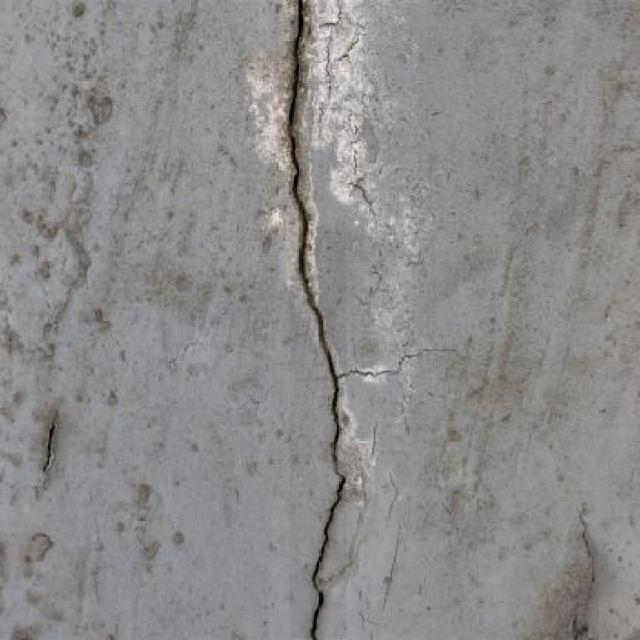horizontal crack: (334, 330, 540, 384)
vertical crack: (289, 0, 346, 639)
